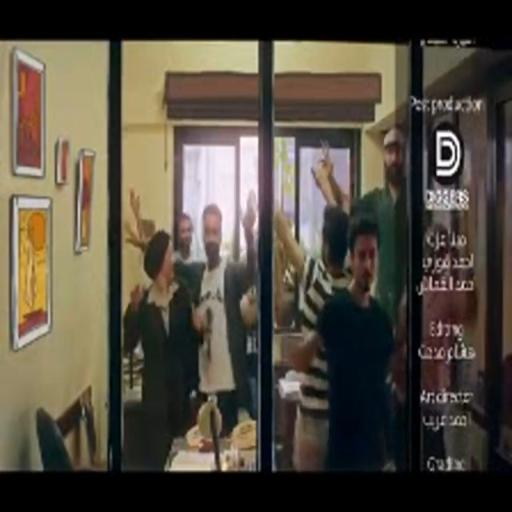nao-violencia: (118, 175, 261, 470), (273, 170, 402, 472)
